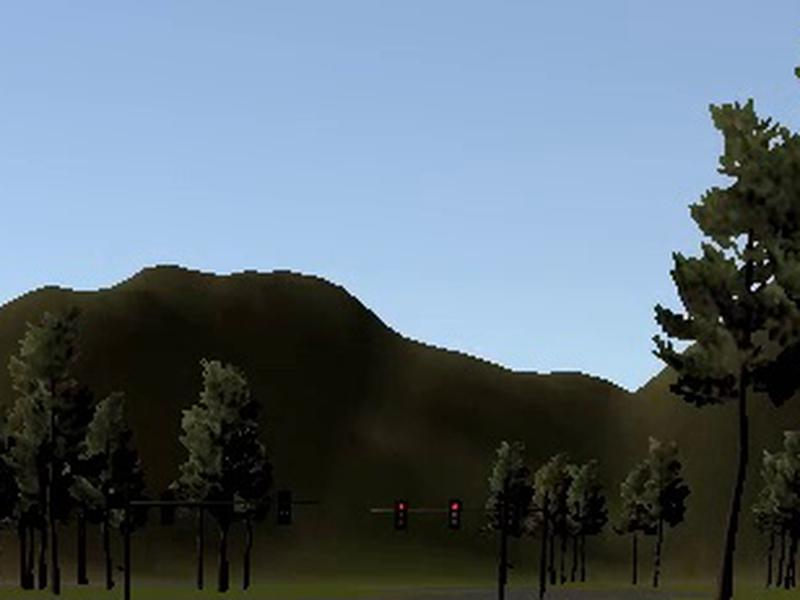Red: (447, 498, 463, 530), (395, 499, 408, 532)
